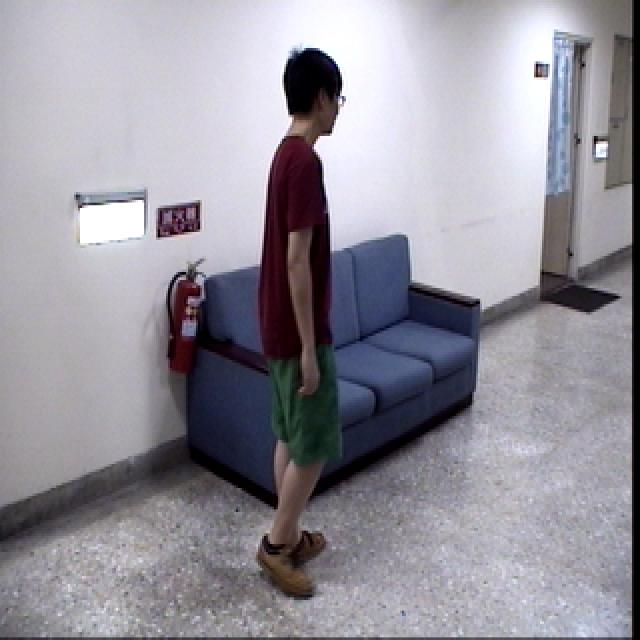stand: (255, 34, 352, 611)
